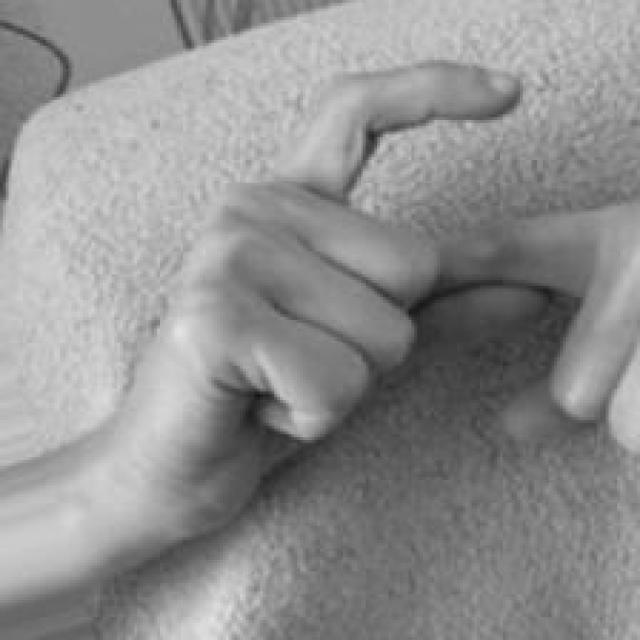S: (126, 46, 640, 552)
